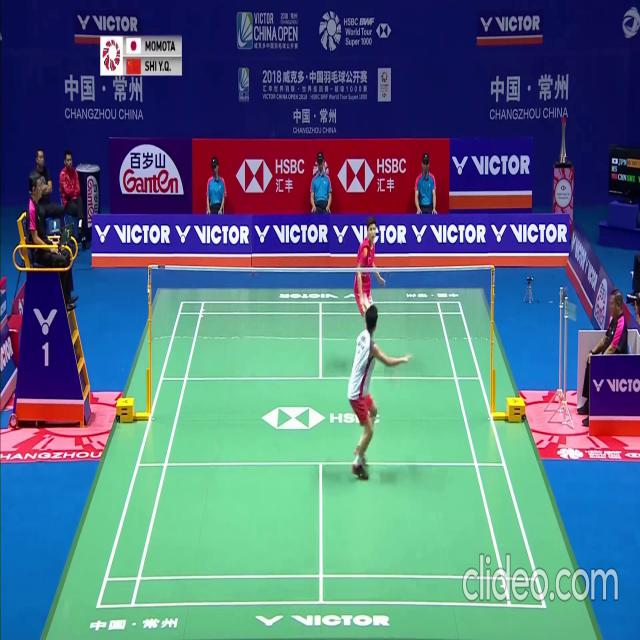Shuttlecock: (399, 237, 403, 245)
